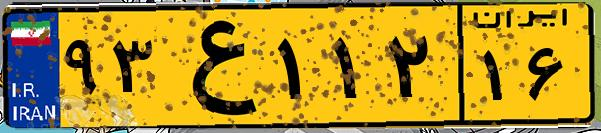1: (270, 28, 330, 110), (330, 28, 385, 110), (475, 38, 525, 113)
2: (385, 28, 445, 110)
3: (110, 28, 158, 98)
6: (525, 38, 570, 115)
9: (57, 26, 110, 100)
ع: (158, 12, 270, 120)
